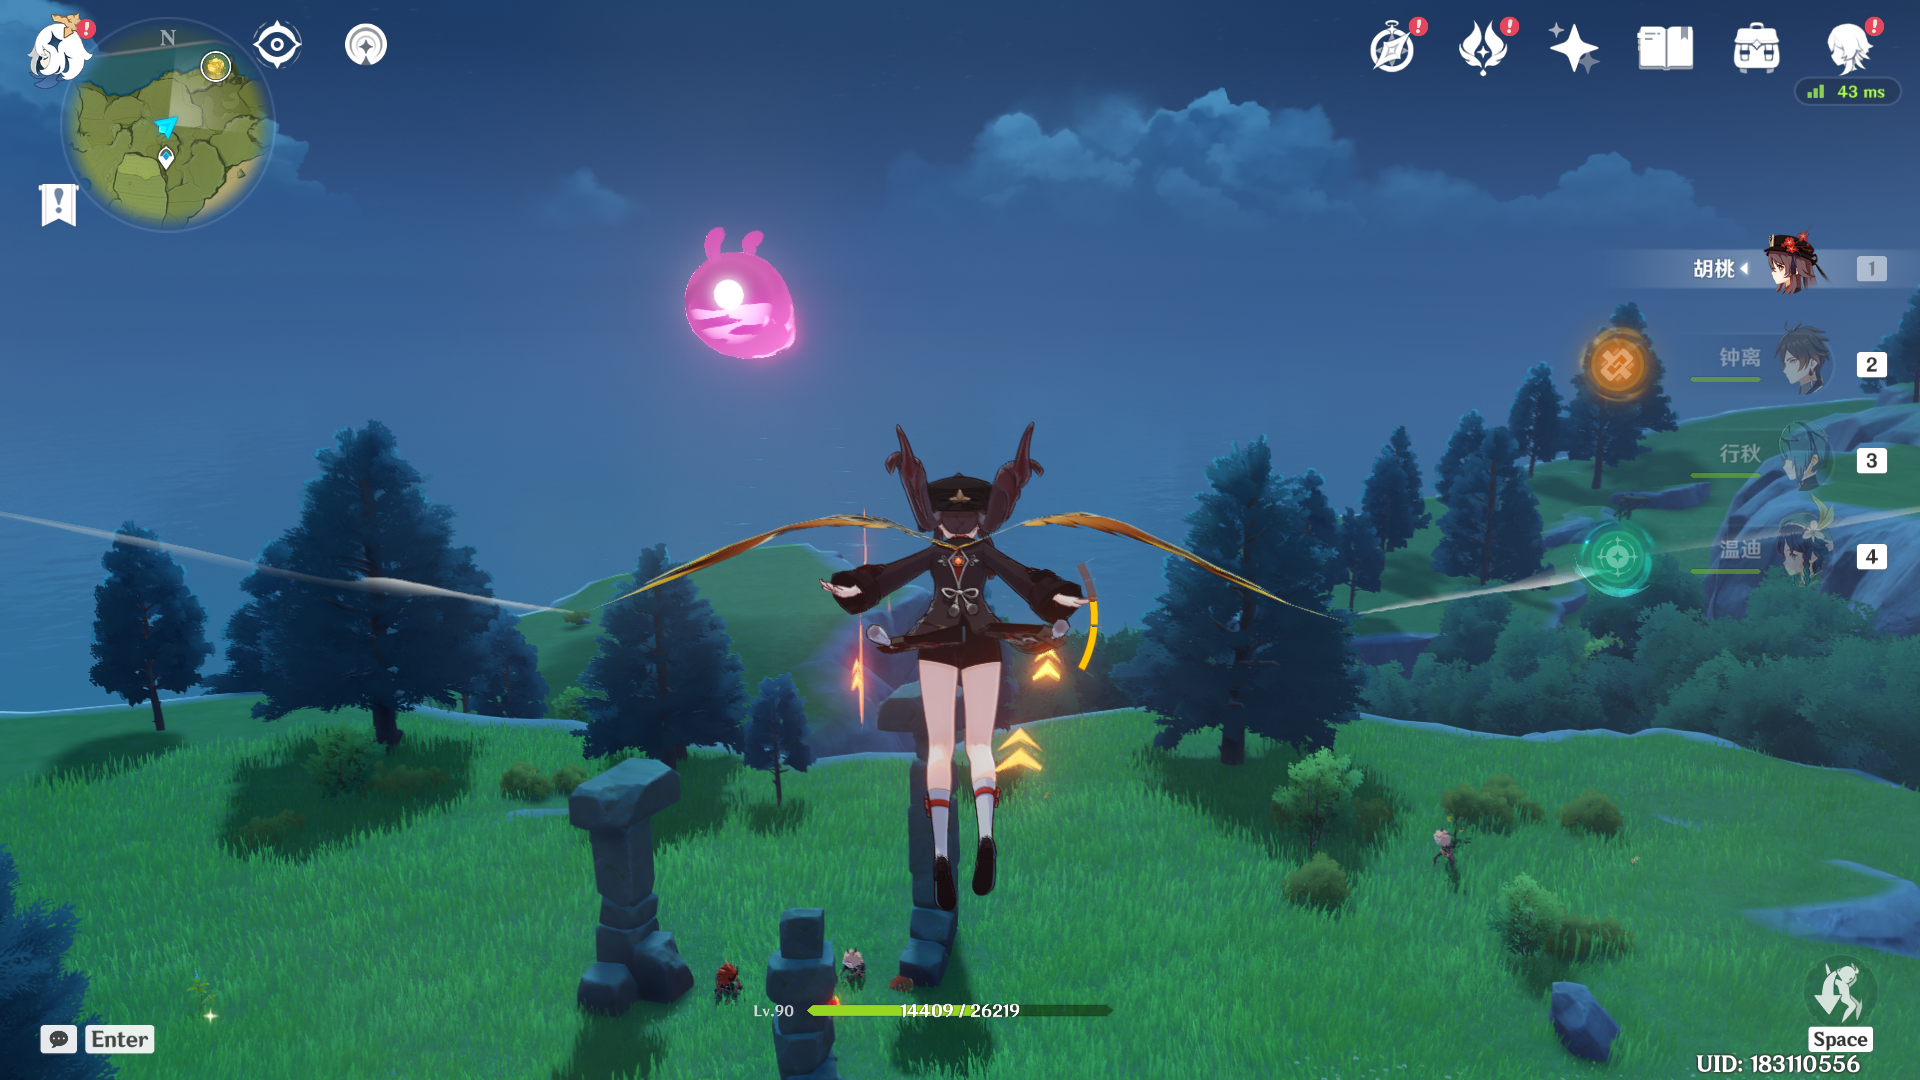character: (775, 398, 1170, 998)
